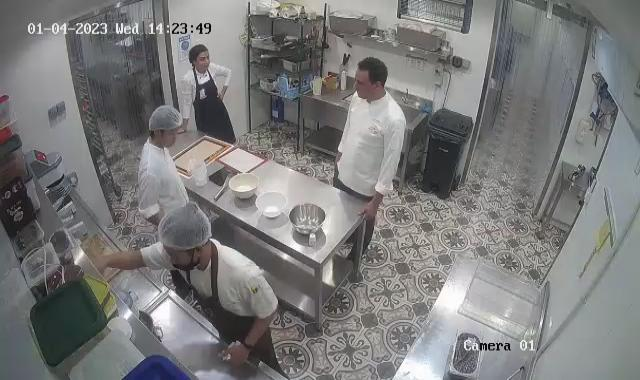hairnet: (159, 201, 213, 254), (146, 102, 184, 132)
no_hairnet: (355, 53, 389, 89), (188, 43, 210, 66)
